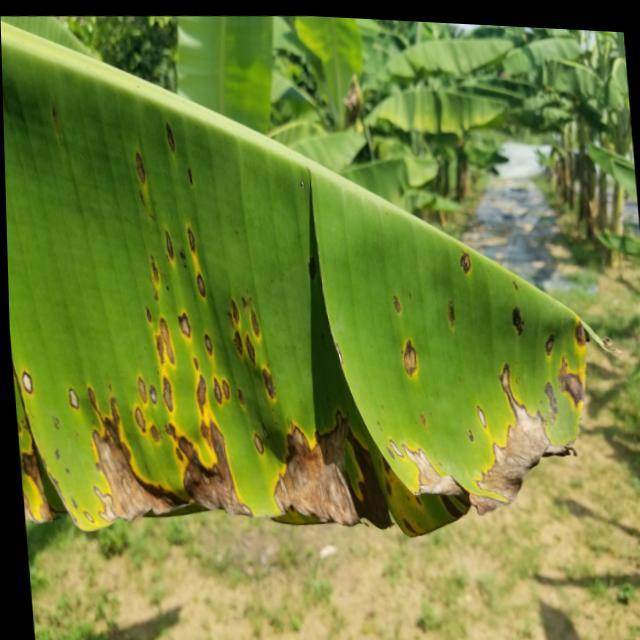Early_rust: (0, 81, 640, 571)
